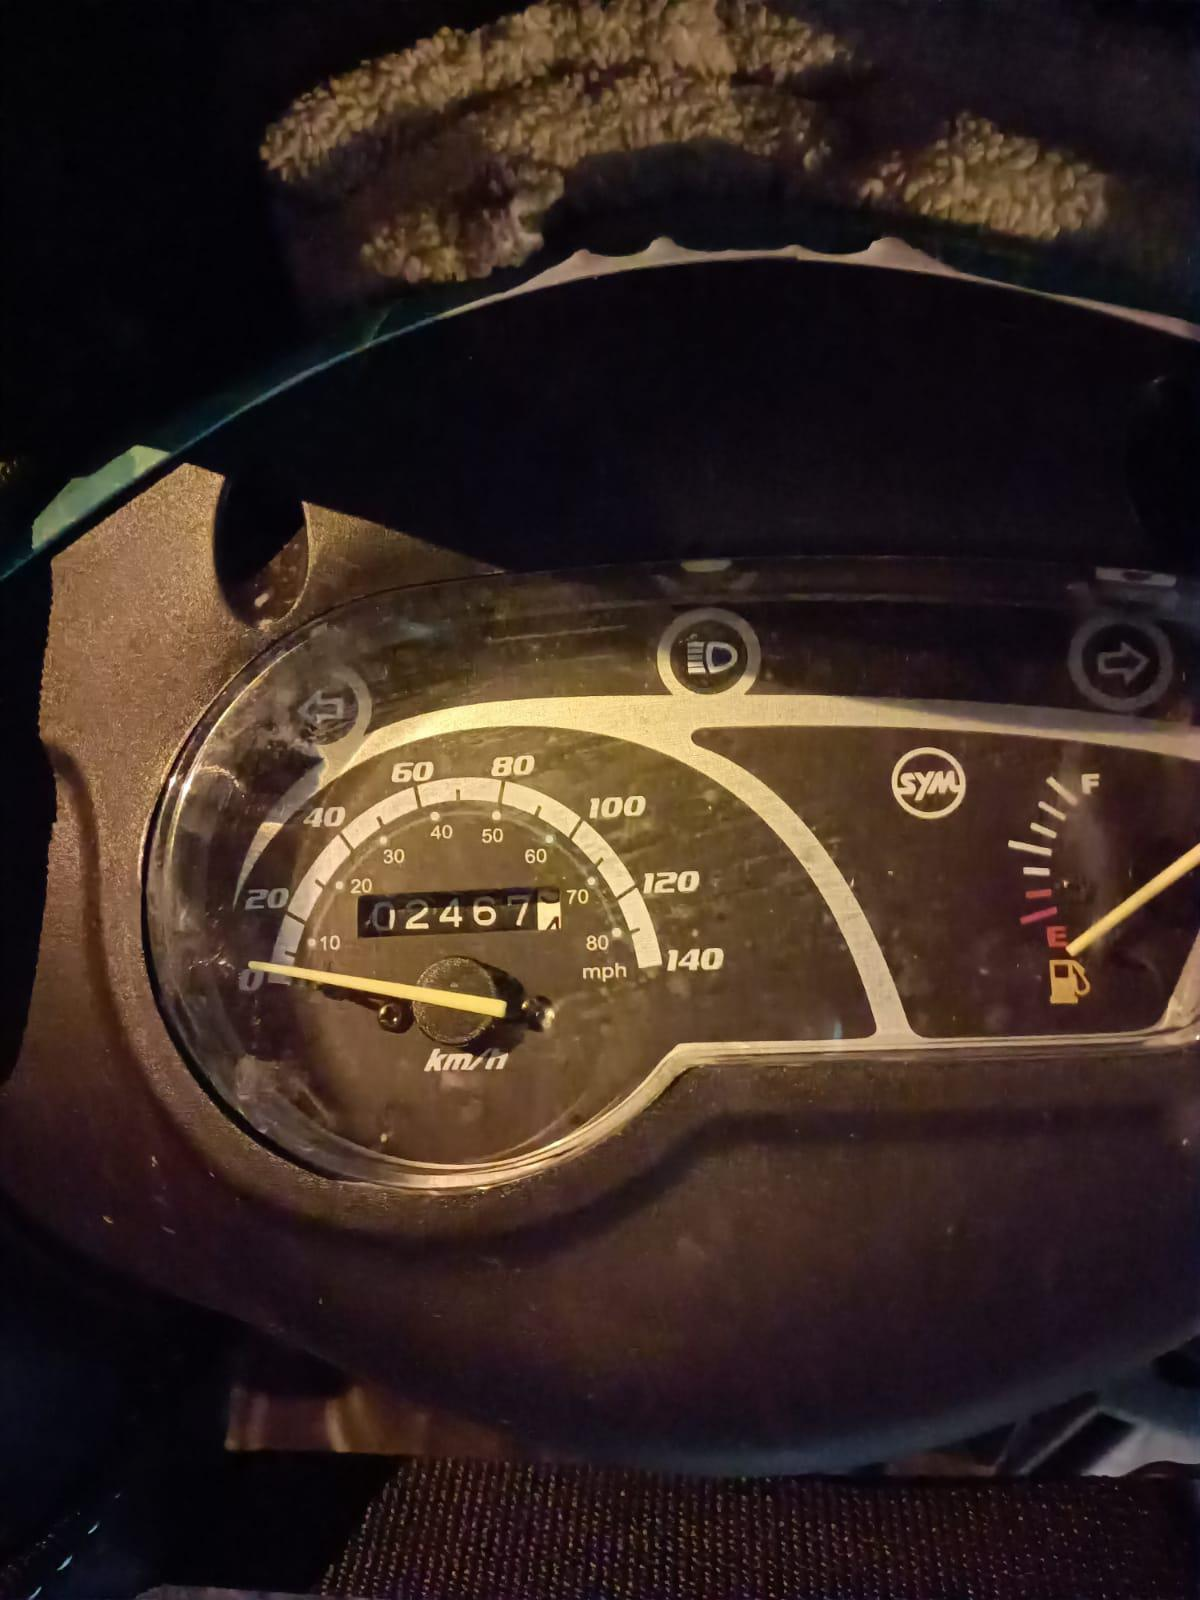0: (371, 900, 395, 934), (362, 876, 374, 892)
2: (402, 897, 430, 934), (350, 878, 361, 894)
4: (436, 896, 464, 930), (541, 913, 565, 939)
6: (469, 893, 498, 929)
7: (505, 891, 533, 930)
odometer: (352, 881, 568, 941)
